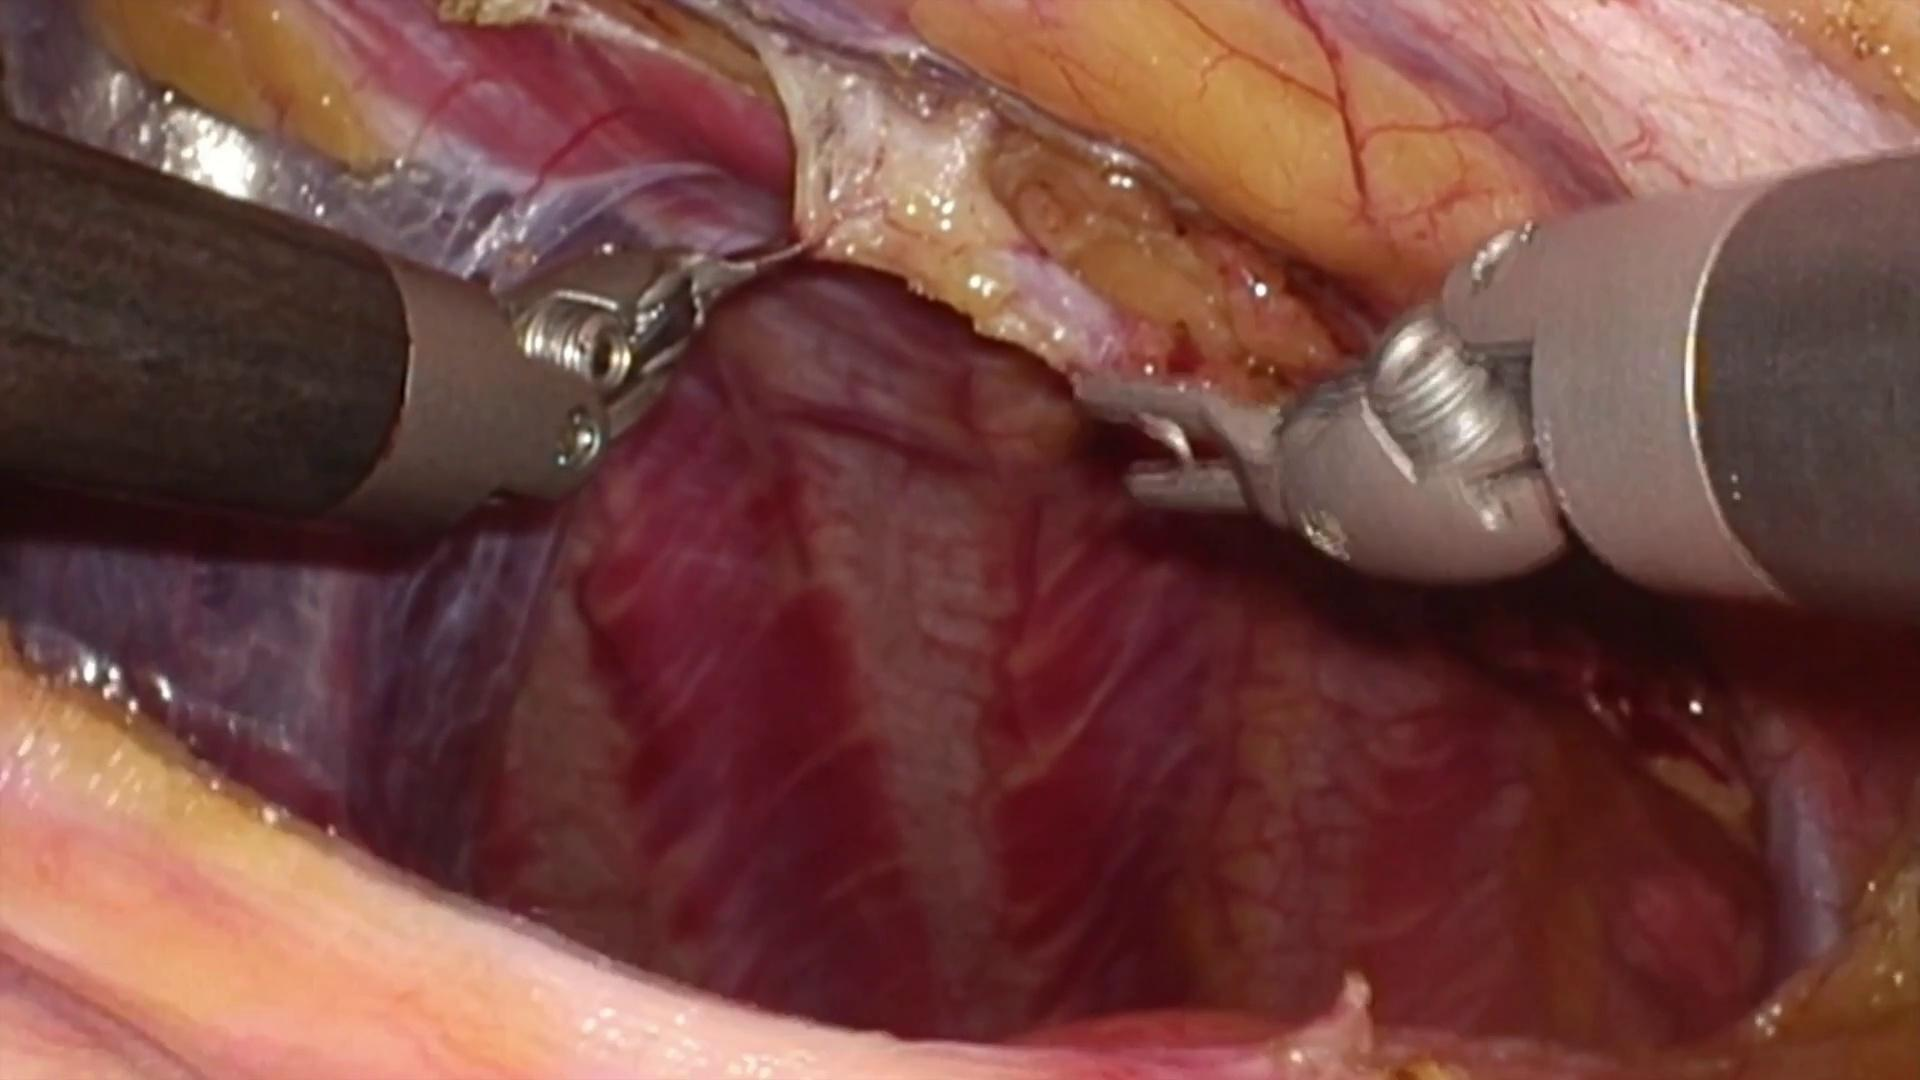Debakey: (674, 211, 832, 320)
clipper: (1076, 371, 1538, 584)
